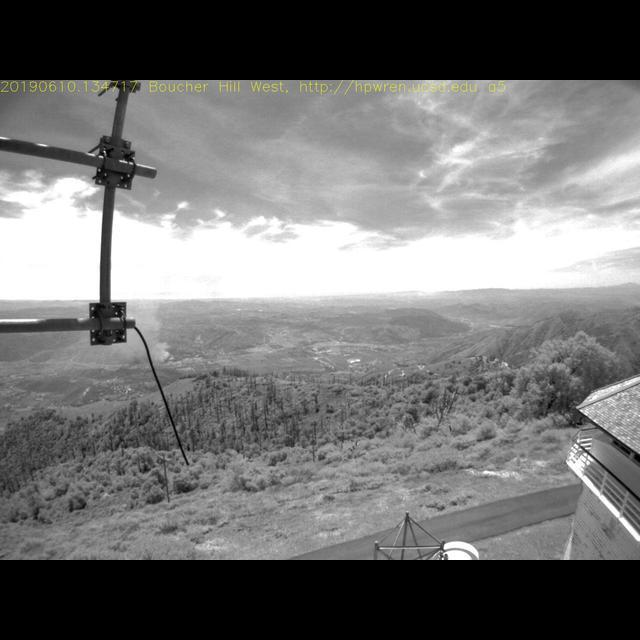Smoke: (115, 286, 177, 364)
